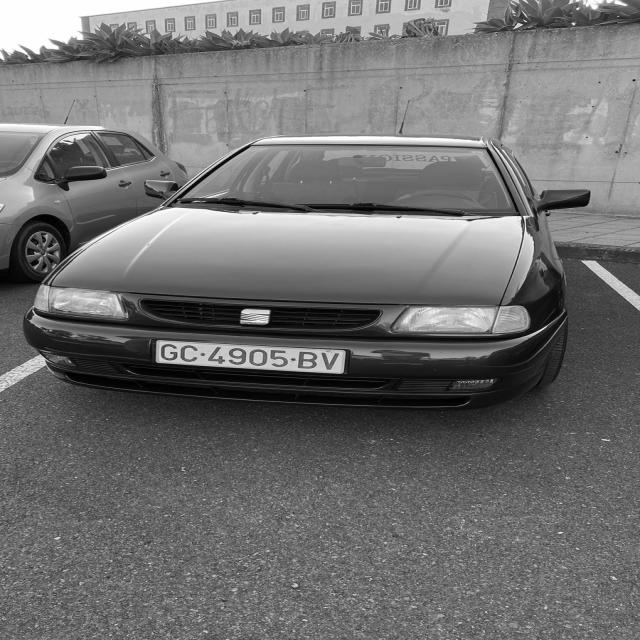License-Plate: (156, 338, 348, 375)
